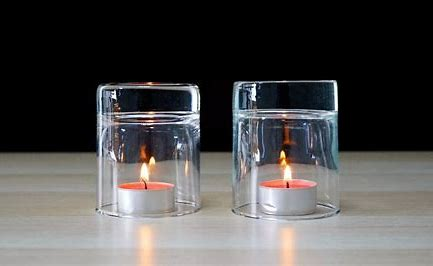Fire: (129, 152, 172, 189), (274, 149, 307, 191)
